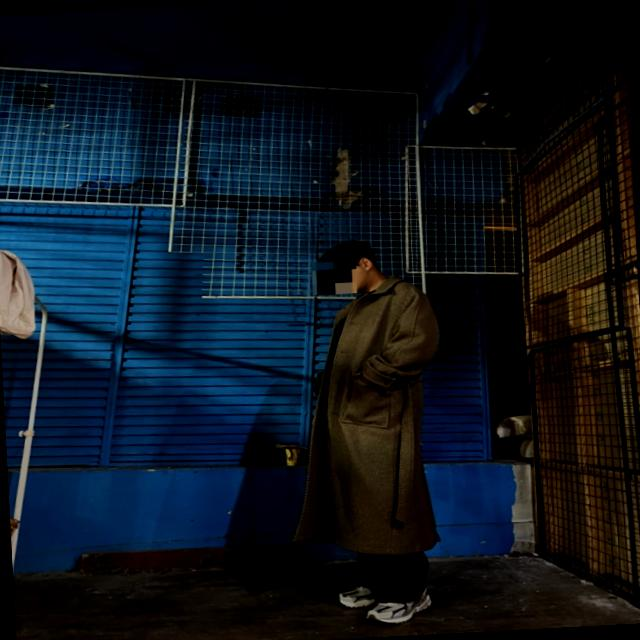coat: (279, 275, 452, 561)
denimpants: (353, 546, 430, 610)
